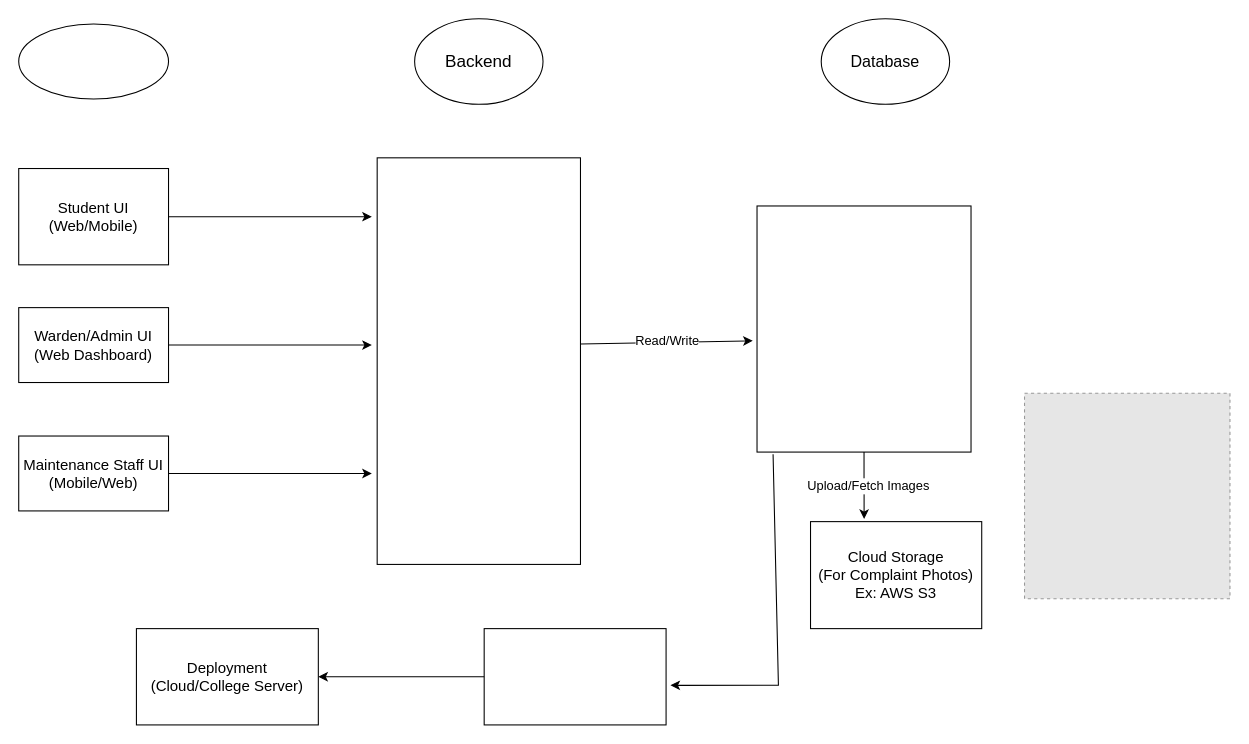
Image size: 1249x744. Some labels were removed from this diagram. Grey dashed boxes stand in for pictures. The box of each missing label's shape, as (x1, y1, x2, y2) in pixels:
CampusBuddy Backend API Auth Module Complaint Module Notification Module: (376, 157, 580, 564)
Database(MySQL ) Stores: Users Rooms Complaints Staff Tasks: (756, 205, 971, 452)
Docker (Containerization): (483, 628, 666, 725)
Frontend(Users): (18, 23, 169, 99)
